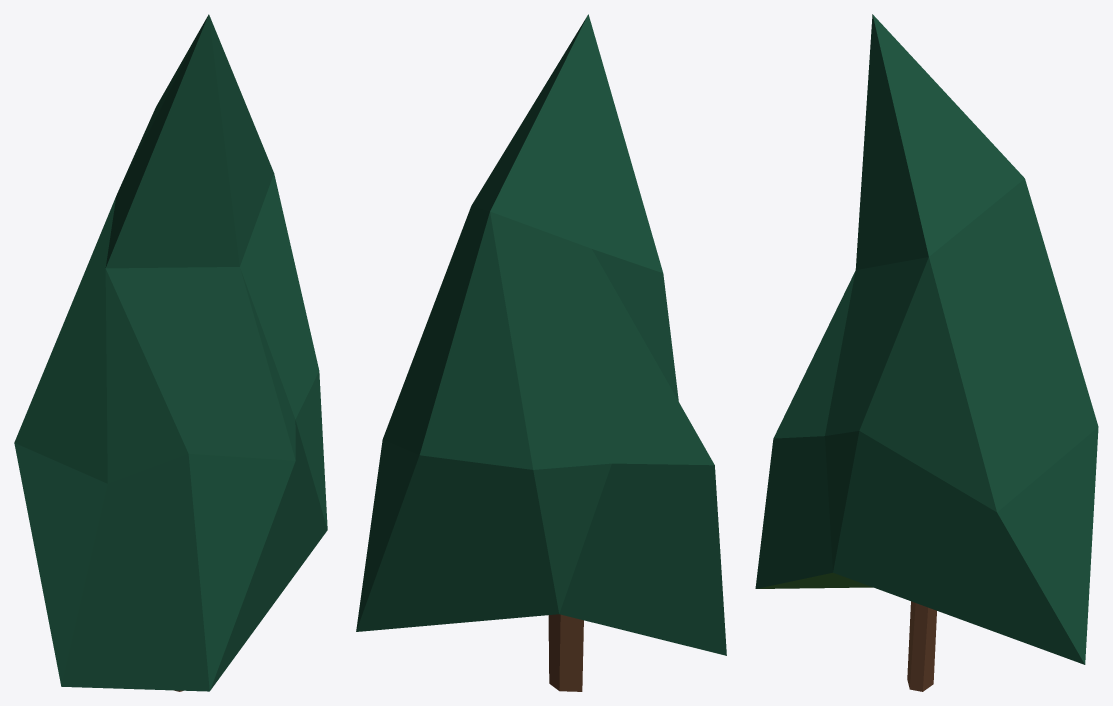
The model's file is TreeWinter8.fbx.
3 views of the same model, side by side, from view 1: azimuth 30°, elevation 25°; view 2: azimuth 150°, elevation 25°; view 3: azimuth 270°, elevation 25° (orthographic). The views are drawn at different scales.
Parts seen in each view (by area): view 1: TreeWinter8; view 2: TreeWinter8; view 3: TreeWinter8.
Boxes of the visible parts, x1=… form: TreeWinter8: x1=14, y1=14, x2=327, y2=691; TreeWinter8: x1=356, y1=14, x2=726, y2=691; TreeWinter8: x1=755, y1=14, x2=1098, y2=691.
Size of the model in its own units: 1.32 by 2.74 by 1.27.
